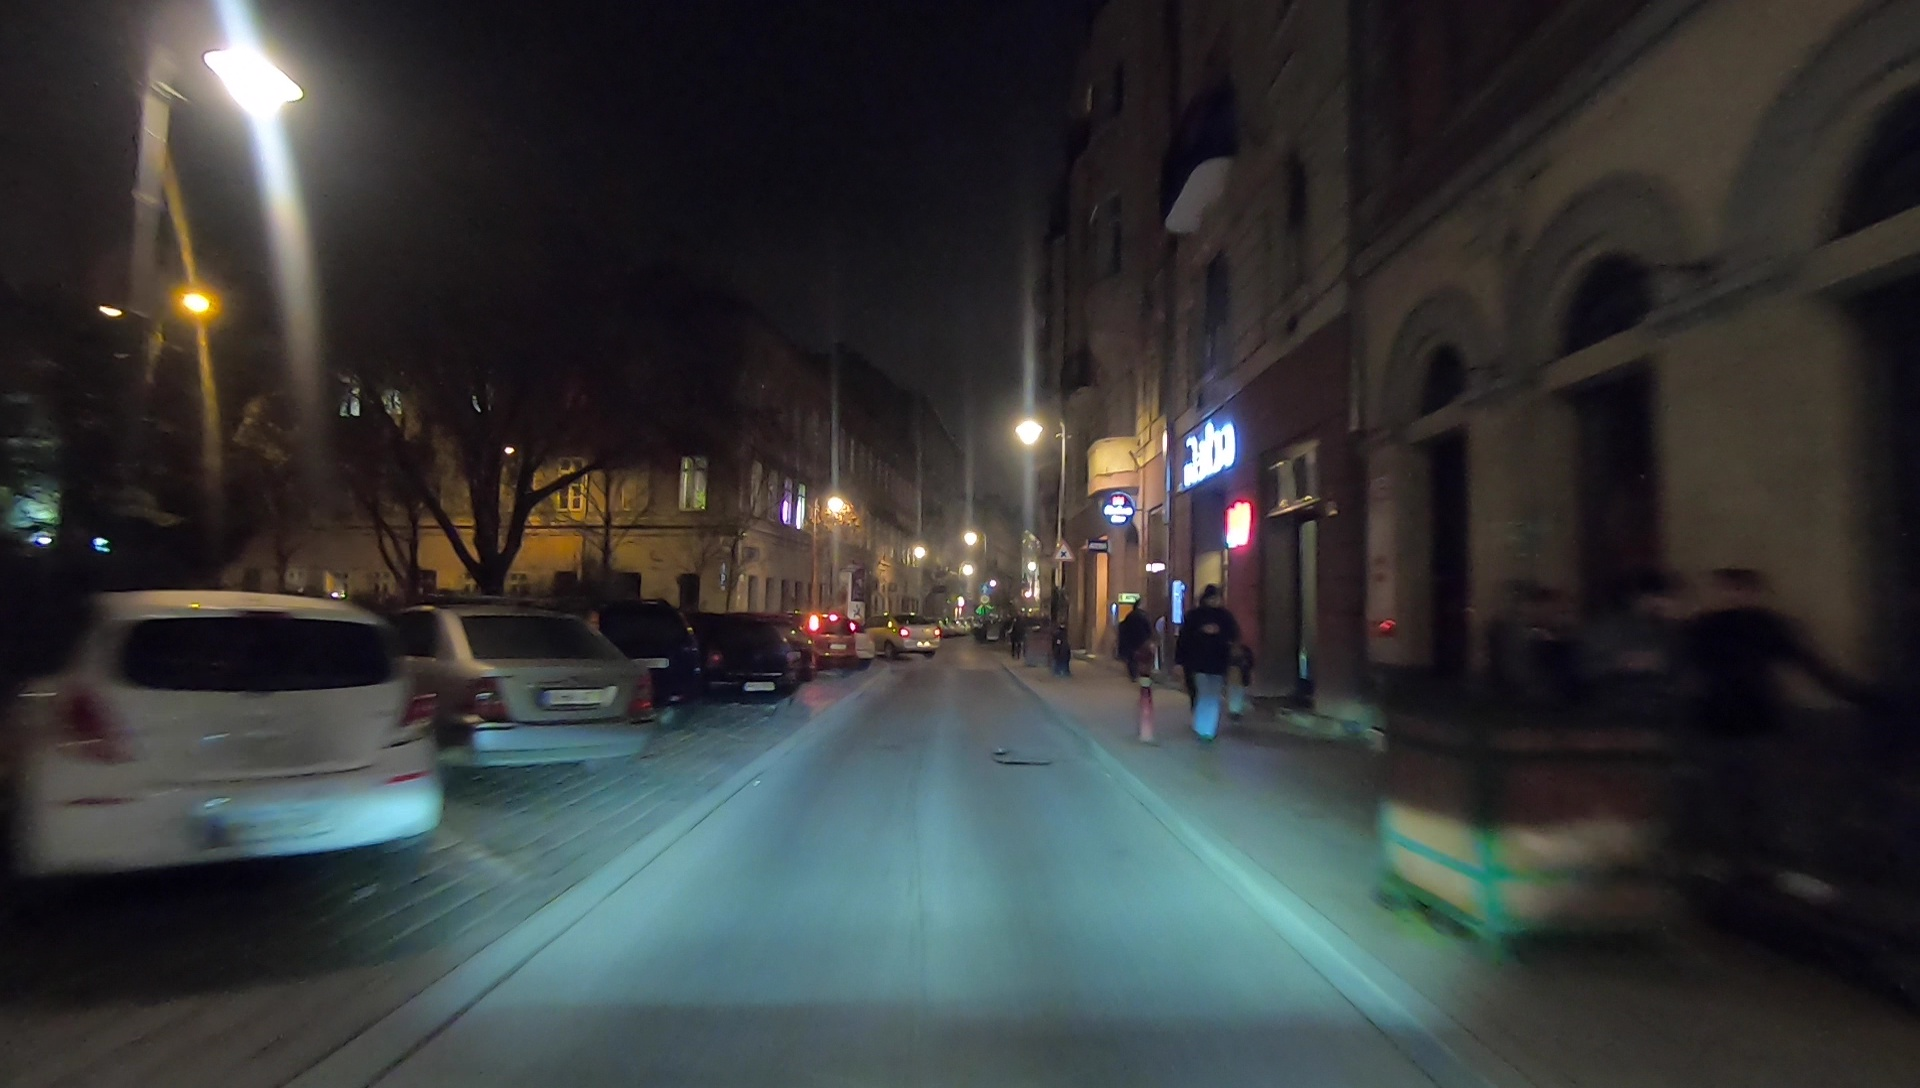person: (1699, 567, 1828, 893), (1604, 576, 1682, 871), (1502, 573, 1578, 849), (1188, 584, 1228, 739), (1115, 591, 1156, 686)
